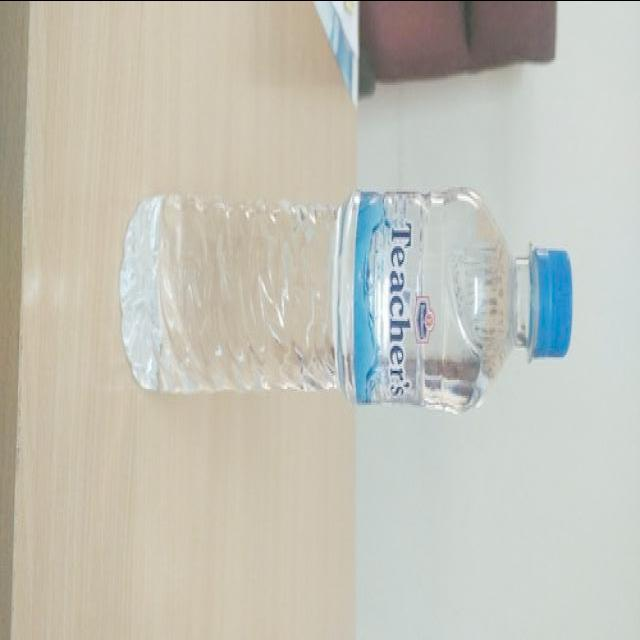cap: (531, 246, 575, 362)
label: (352, 188, 450, 404)
not-crumbled: (117, 192, 582, 416)
